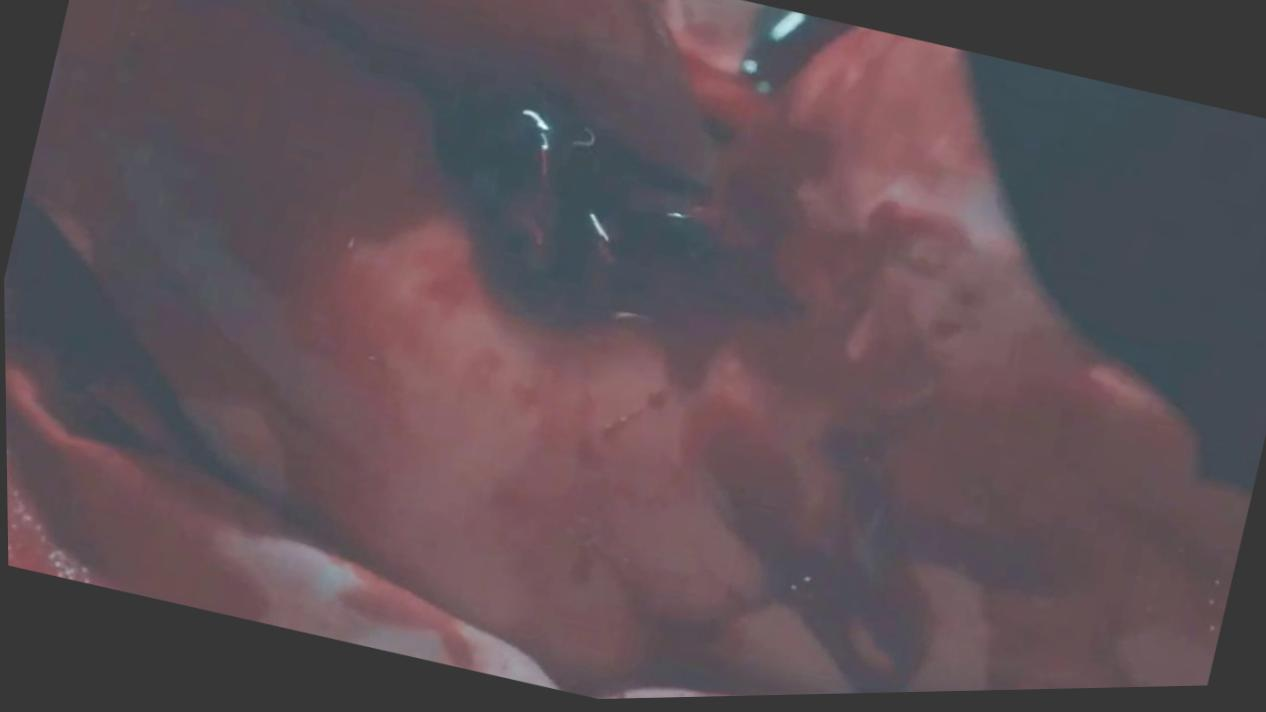Fire: (3, 0, 1249, 701)
